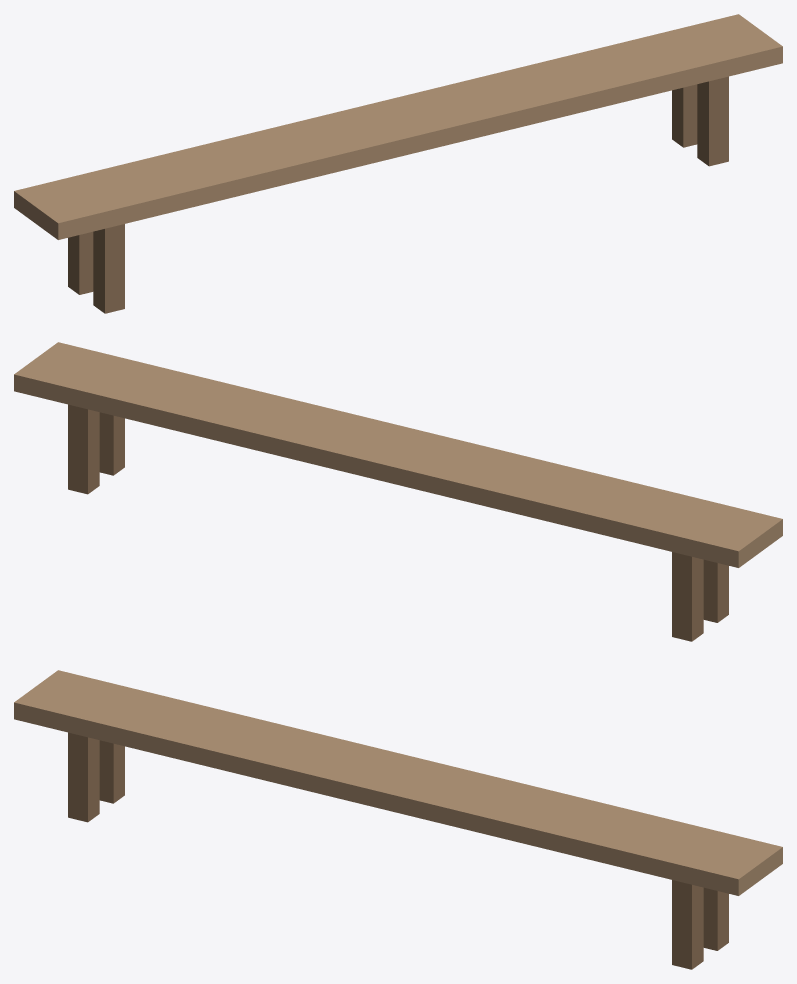
The model's file is bench_long.glb.
3 renders of one model, top to bottom at view 1: azimuth 30°, elevation 25°; view 2: azimuth 150°, elevation 25°; view 3: azimuth 330°, elevation 25°, orthographic.
Visible parts, largest first — view 1: bench_long; view 2: bench_long; view 3: bench_long.
Part boxes in pixels (bbox=[...]): bench_long: bbox=[14, 14, 782, 313]; bench_long: bbox=[14, 342, 782, 641]; bench_long: bbox=[14, 670, 782, 969].
Size of the model in its own units: 3.6 by 0.5001 by 0.3801.
